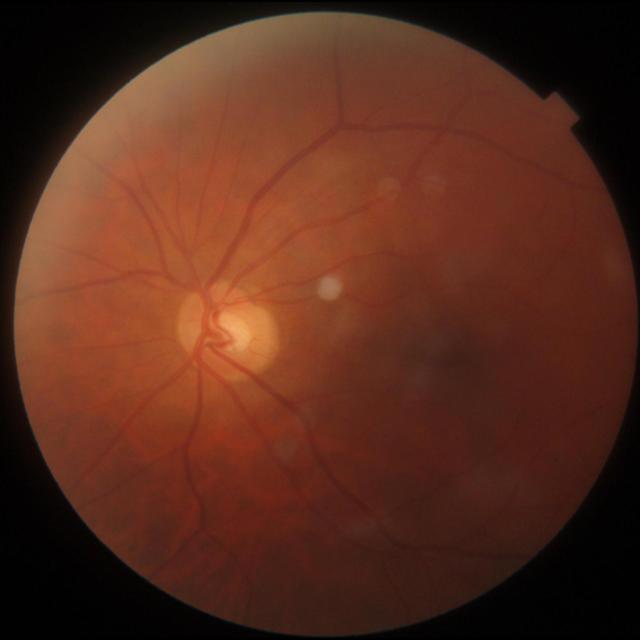OC: (209, 312, 251, 352)
OD: (179, 291, 277, 381)
